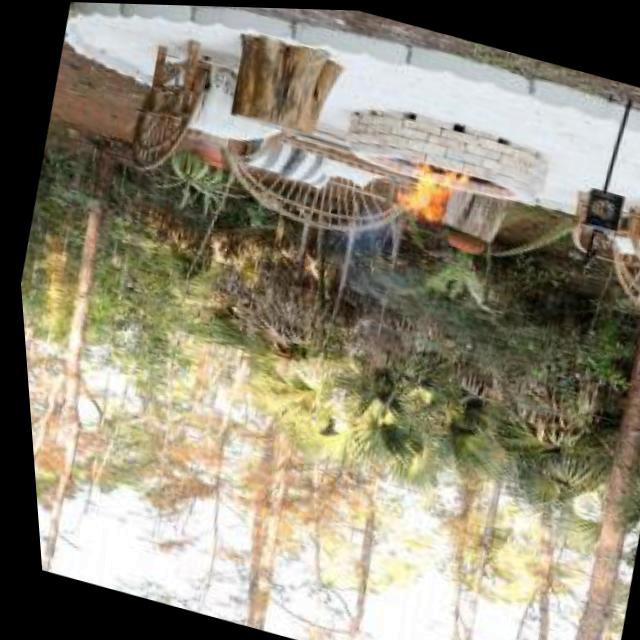fire: (388, 153, 472, 230)
